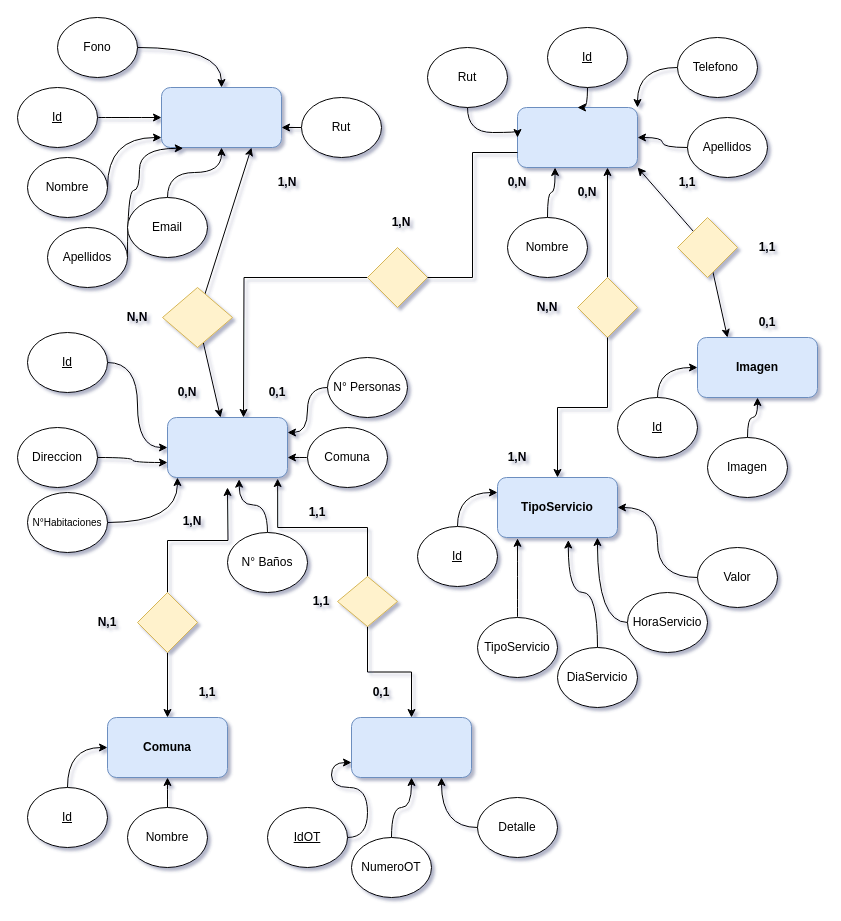
The diagram is 841 pixels wide and 921 high, and some of its shapes have lost their labels. Each missing label, with the box of its shape:
Asesora: (516, 106, 638, 168)
Cliente: (160, 86, 282, 148)
Hogar: (166, 416, 288, 478)
OrdenTrabajo: (350, 716, 472, 778)
